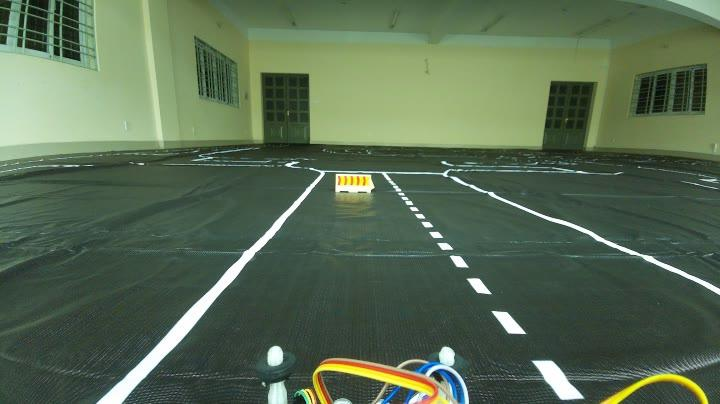roadblock: (332, 170, 378, 196)
